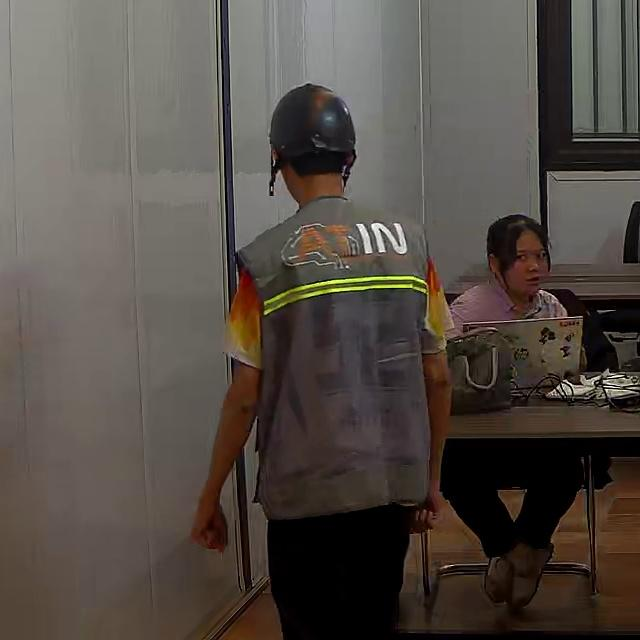helmet: (267, 82, 358, 165)
no_helmet: (485, 213, 552, 275)
none: (446, 280, 566, 339)
vest: (238, 205, 435, 515)
